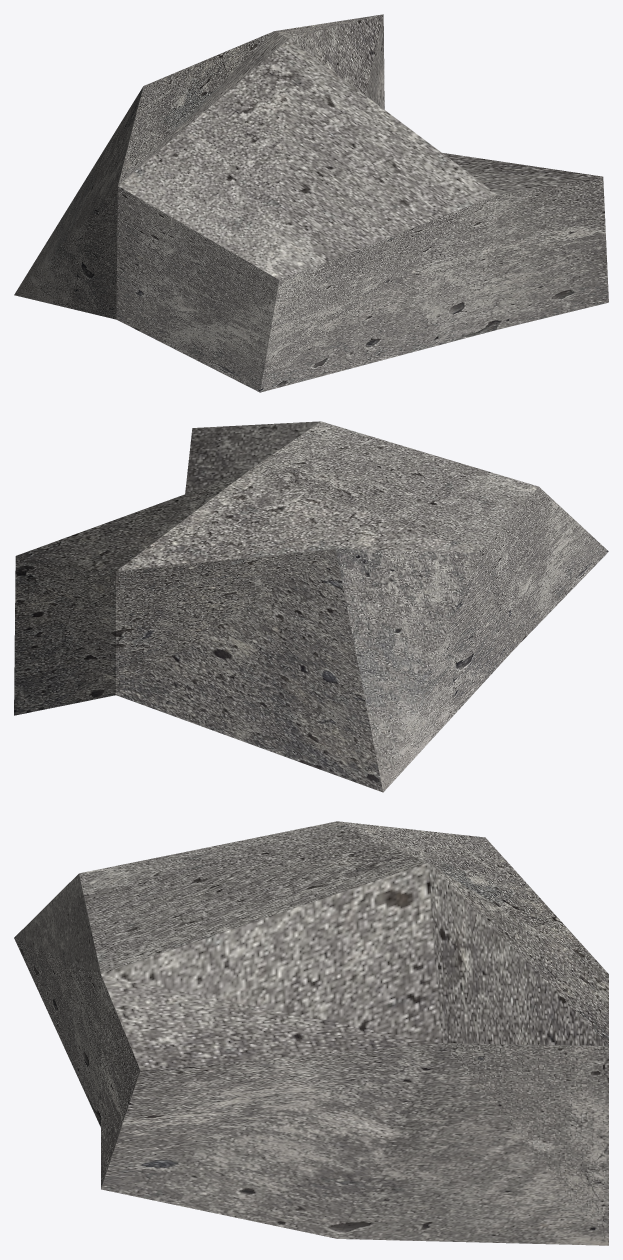
The model's file is Rubble_1.fbx.
3 views of the same model, one above another, from view 1: azimuth 30°, elevation 25°; view 2: azimuth 150°, elevation 25°; view 3: azimuth 270°, elevation 25° (orthographic). The views are drawn at different scales.
Parts seen in each view (by area): view 1: pCube1; view 2: pCube1; view 3: pCube1.
Boxes of the visible parts, x1,y1,x2,y2 form: pCube1: (14, 14, 608, 392); pCube1: (14, 421, 608, 792); pCube1: (14, 821, 608, 1245).
Bounding box in the file's own units: 3.23 × 2.21 × 3.51.
